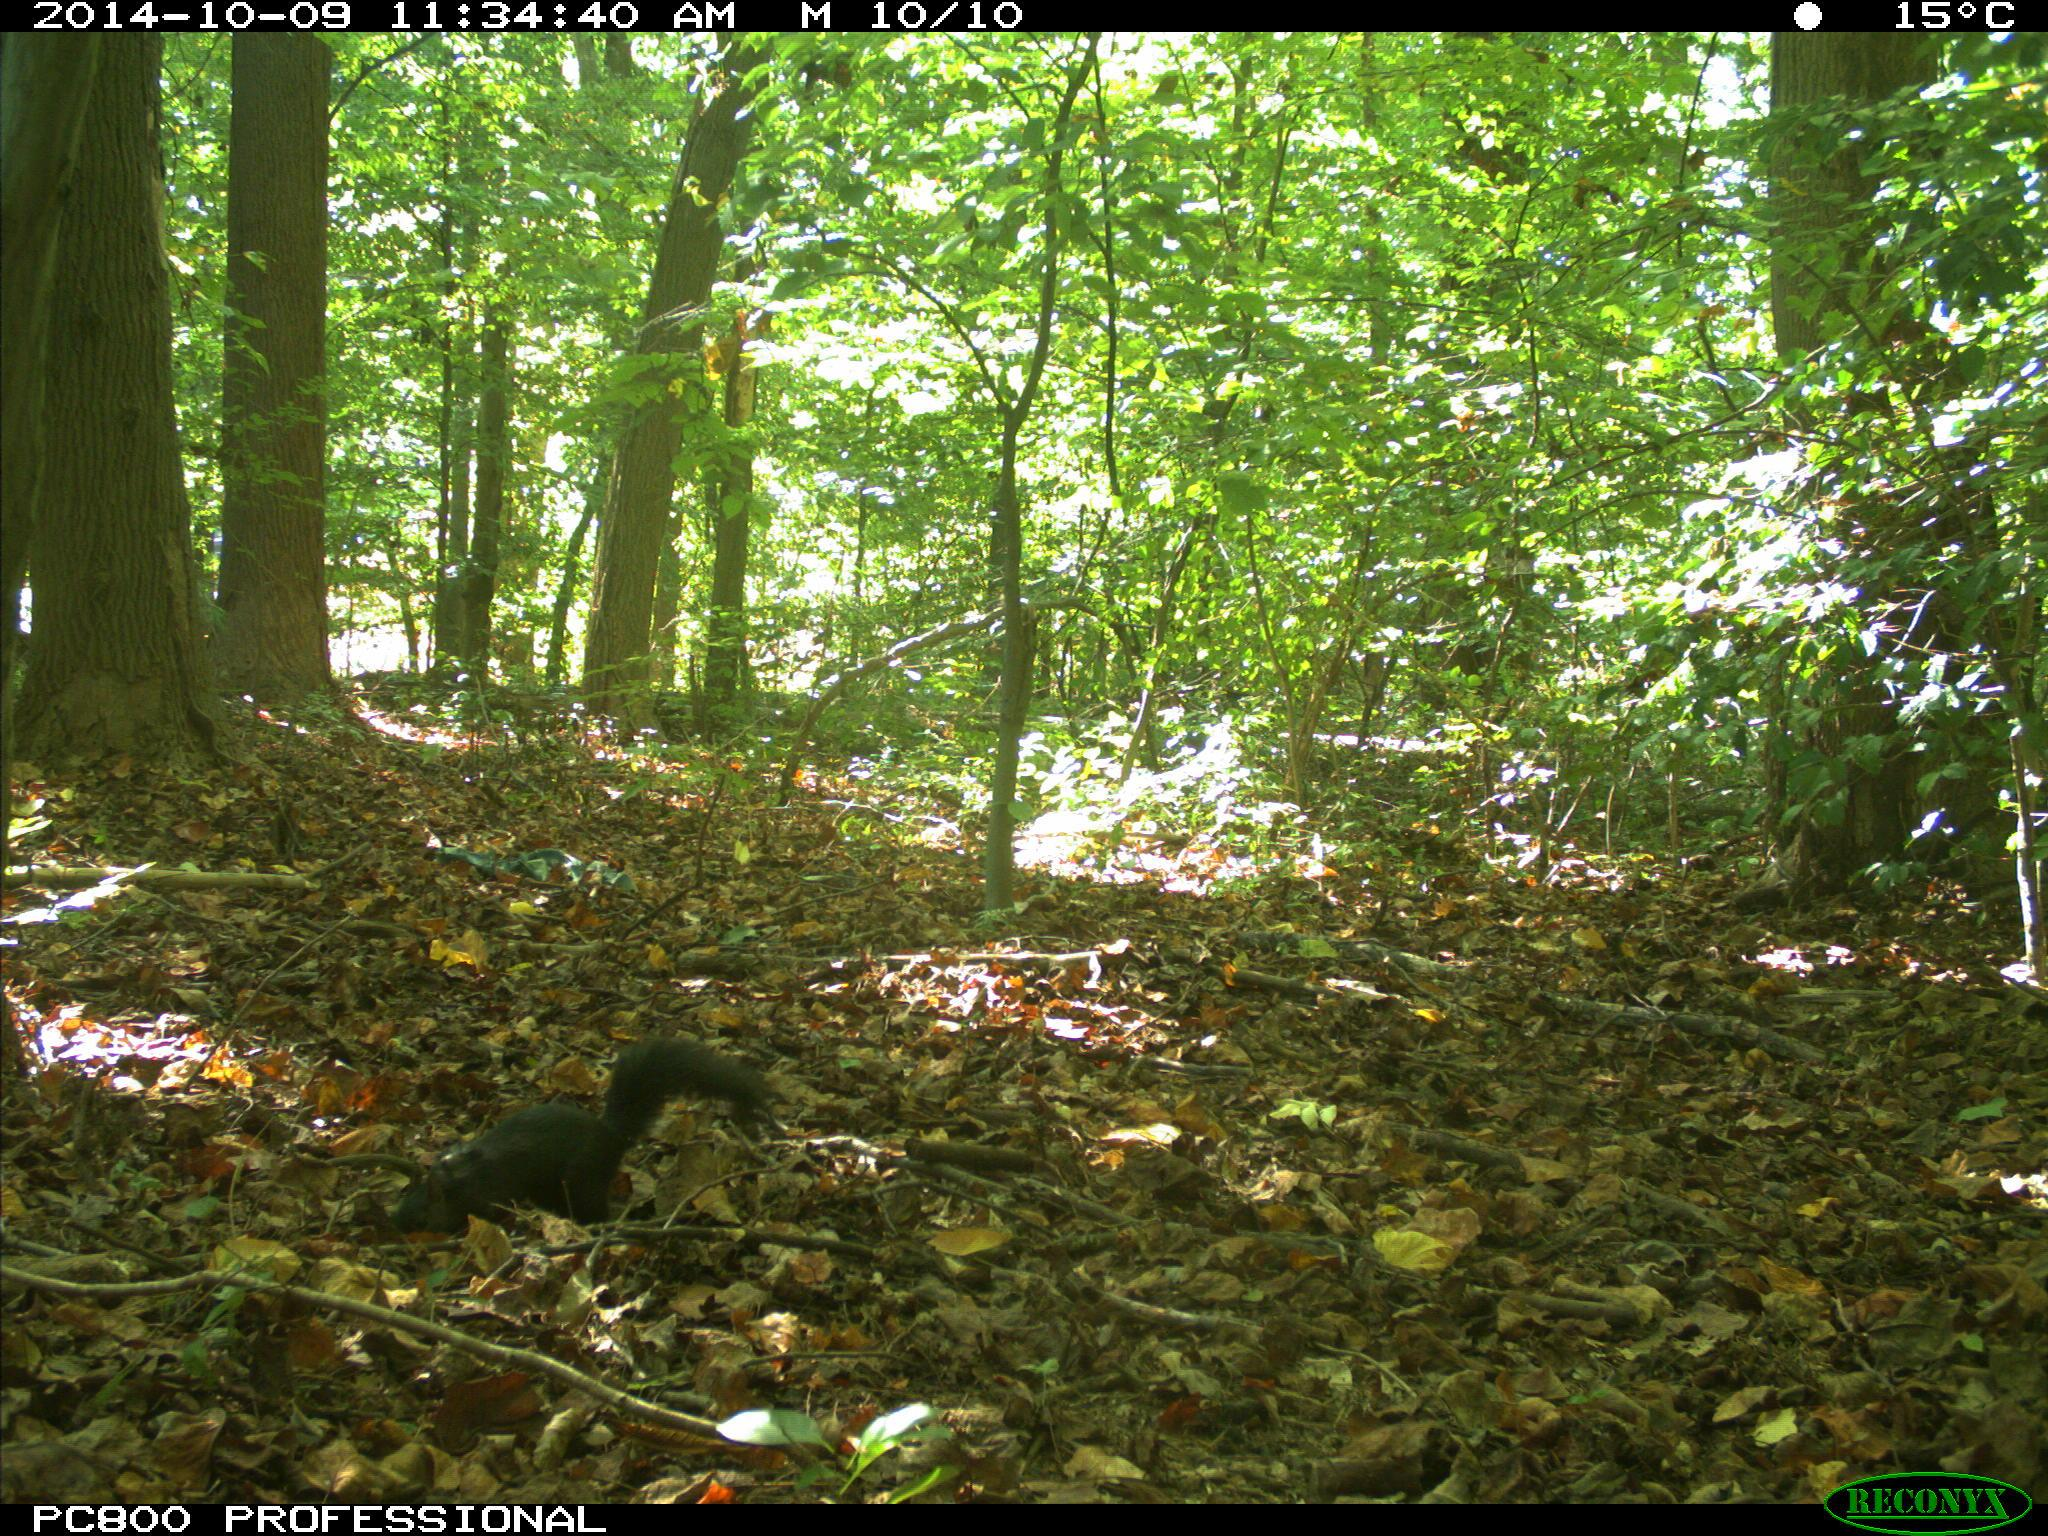Animal: (390, 1034, 766, 1239)
